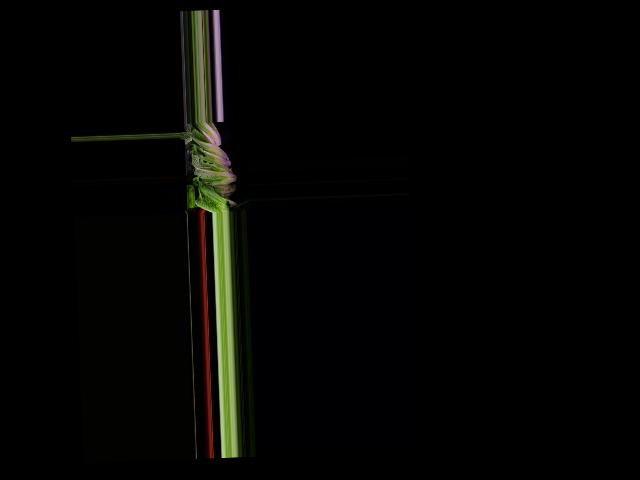lettuce: (192, 121, 222, 149)
